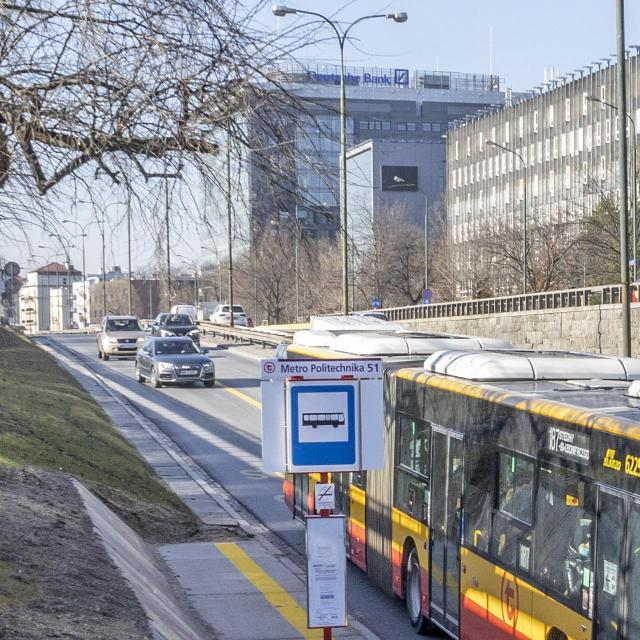Bus: (282, 316, 640, 640)
Electric pole: (272, 4, 408, 314), (618, 0, 633, 357)
